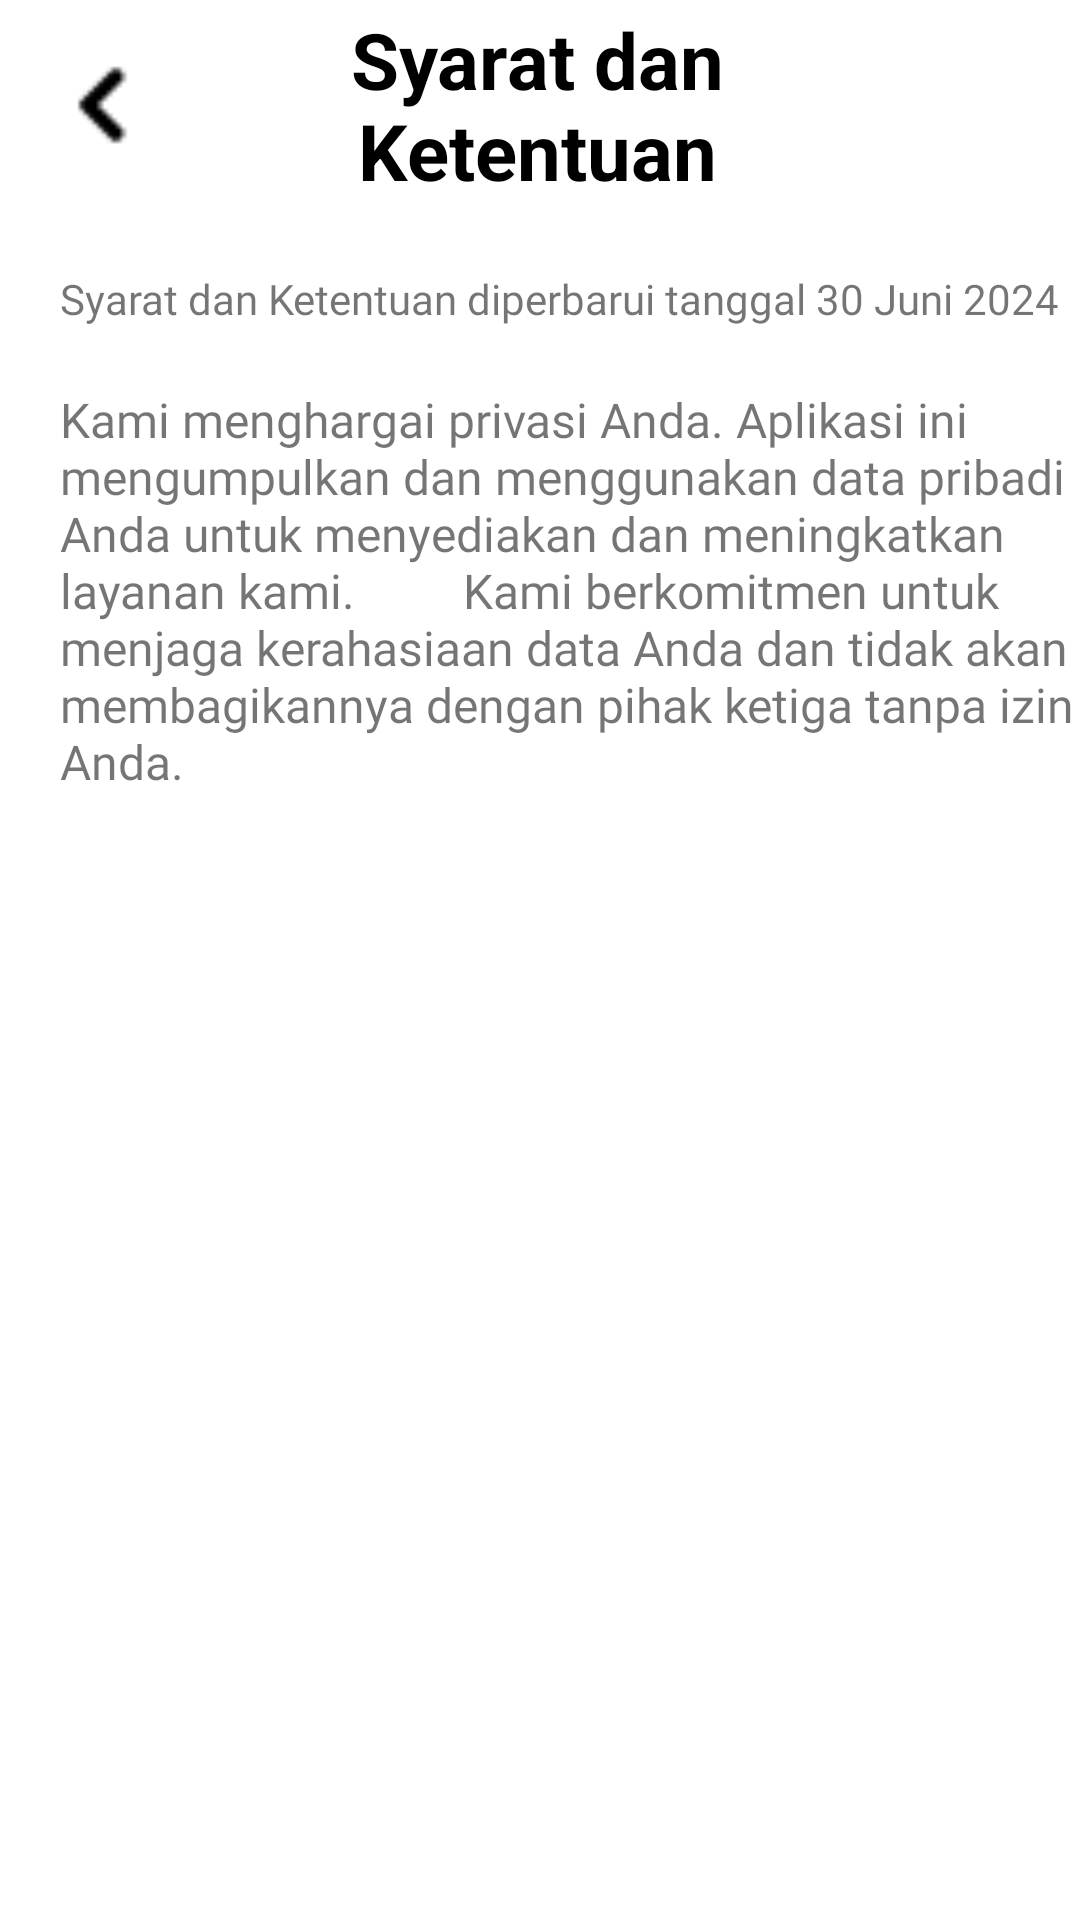

Icons on this 1080w x 1920h Android screen, each with its box as (x1, y1, x2, y2):
panah kiri: (78, 66, 127, 144)
